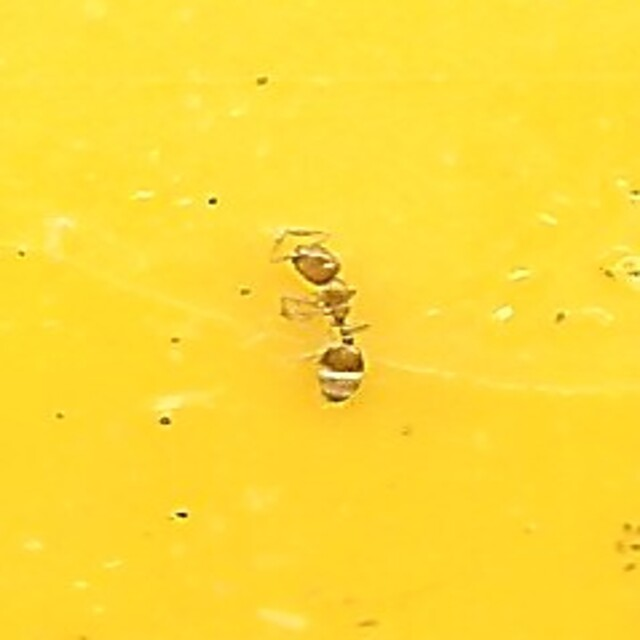Hymenoptera: (268, 227, 372, 413)
